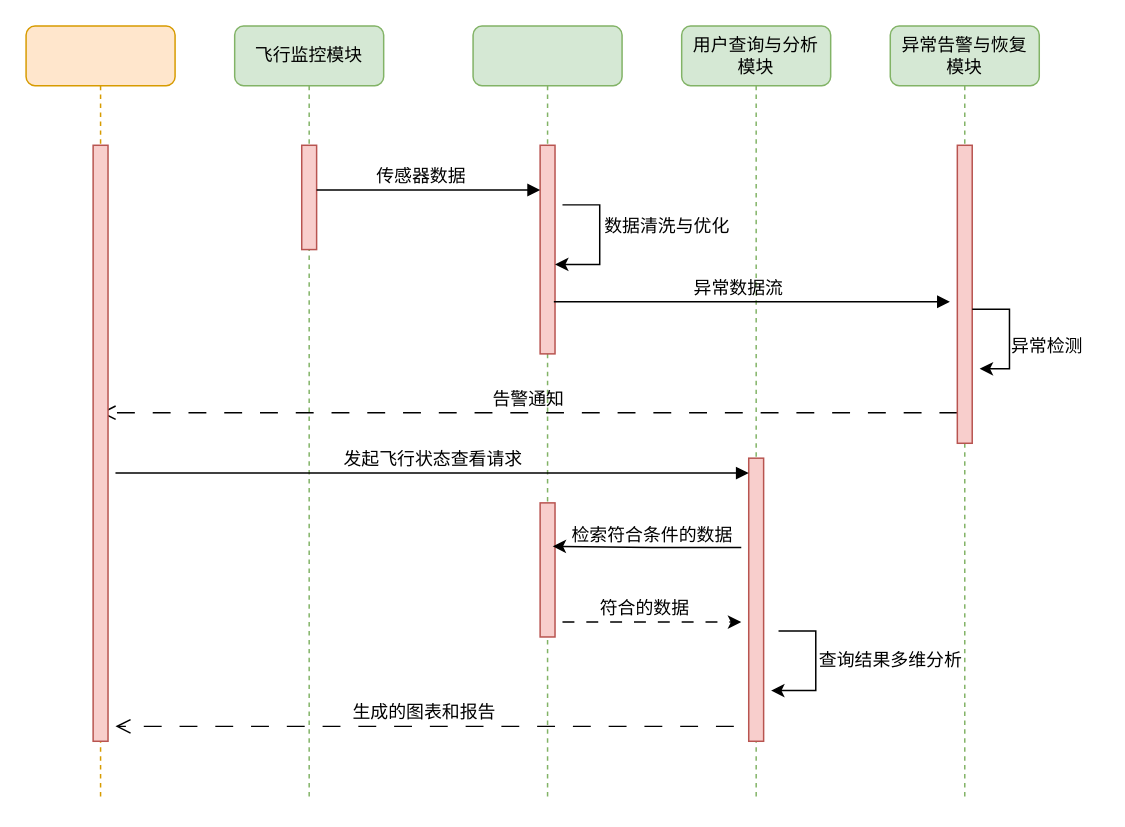
The diagram is 1125 pixels wide and 827 high, and some of its shapes have lost their labels. Here are the shapes that lost their labels. From the top down, the box of each, then its label:
(25, 25, 175, 801): 用户
(472, 25, 622, 801): 状态数据采集 模块
